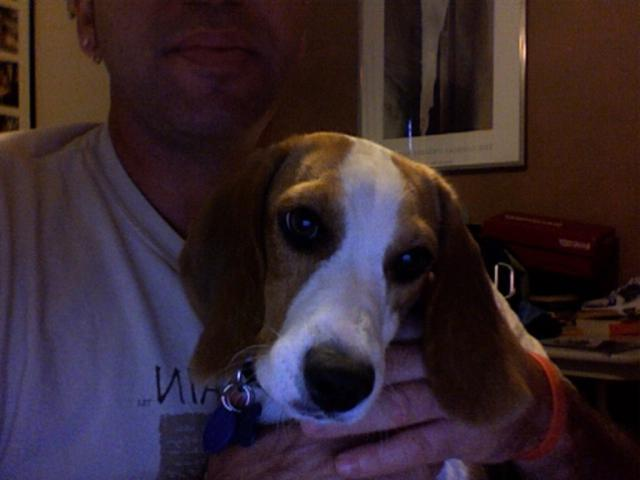Dog: (178, 136, 532, 479)
